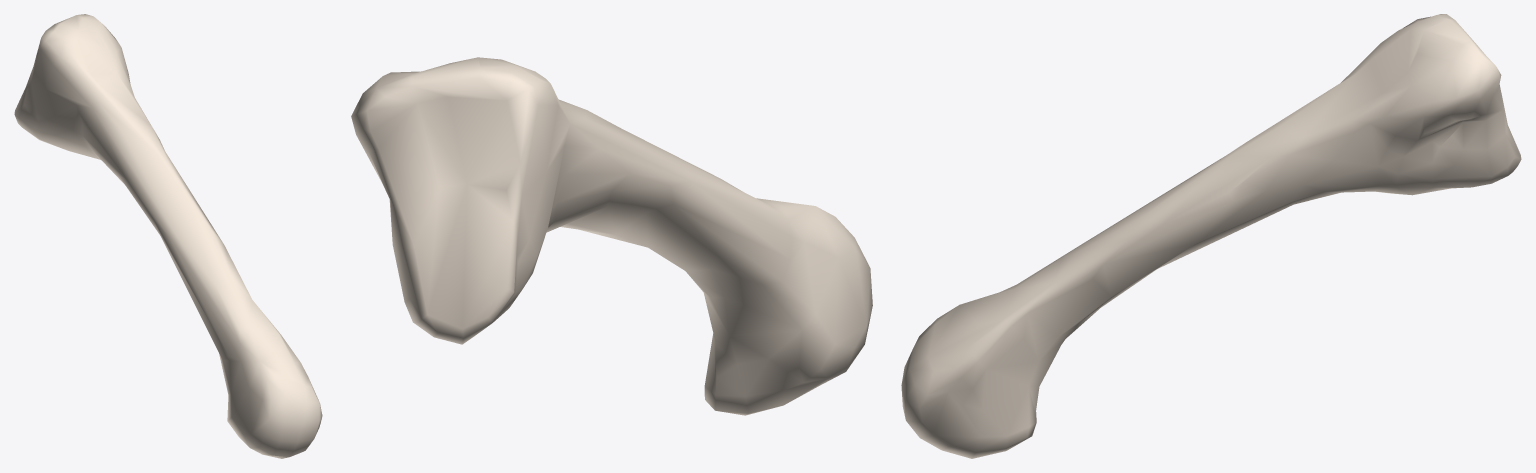
The model's file is left_metatarsal_2.glb.
The picture shows the model from 3 angles, left to right: view 1: azimuth 30°, elevation 25°; view 2: azimuth 150°, elevation 25°; view 3: azimuth 270°, elevation 25°; orthographic projection. The views are drawn at different scales.
Visible parts, largest first — view 1: Second metatarsal bone.r; view 2: Second metatarsal bone.r; view 3: Second metatarsal bone.r.
Boxes of the visible parts, x1,y1,x2,y2 form: Second metatarsal bone.r: [14, 14, 322, 458]; Second metatarsal bone.r: [351, 57, 872, 415]; Second metatarsal bone.r: [901, 14, 1521, 458].
Bounding box in the file's own units: 0.0158 × 0.0488 × 0.0669.
